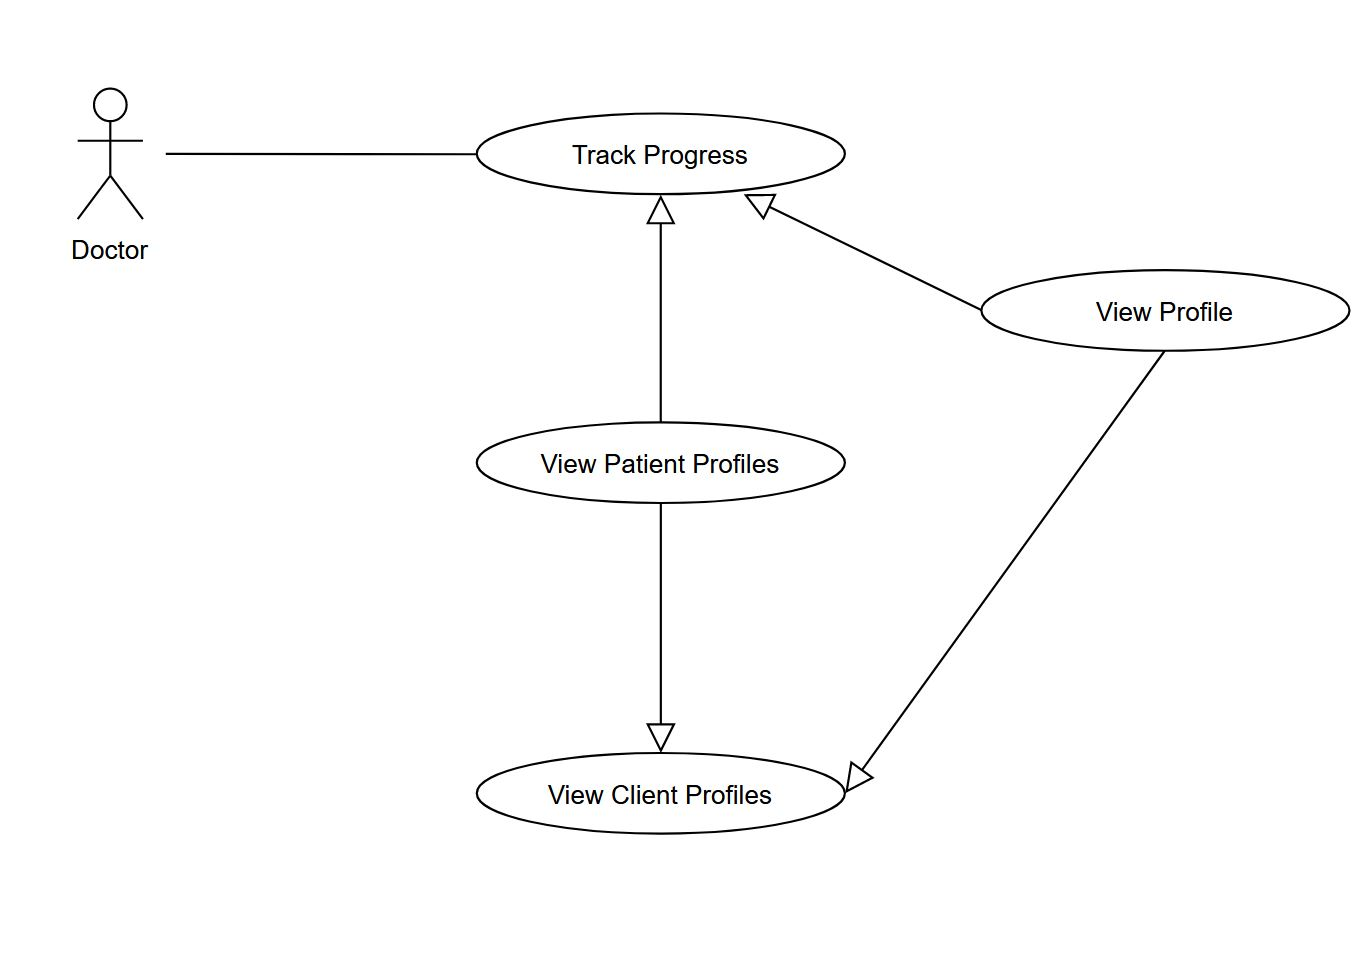actor: (67, 88, 159, 223)
association: (160, 137, 475, 176)
generalization: (843, 353, 1166, 793), (743, 191, 980, 310), (645, 503, 678, 752), (644, 197, 677, 415)
text: (544, 778, 777, 812), (569, 135, 759, 175), (536, 448, 780, 479), (1095, 296, 1235, 329), (68, 235, 161, 264)
use_case: (472, 110, 848, 198), (474, 749, 846, 836), (980, 267, 1351, 352), (474, 421, 848, 506)
